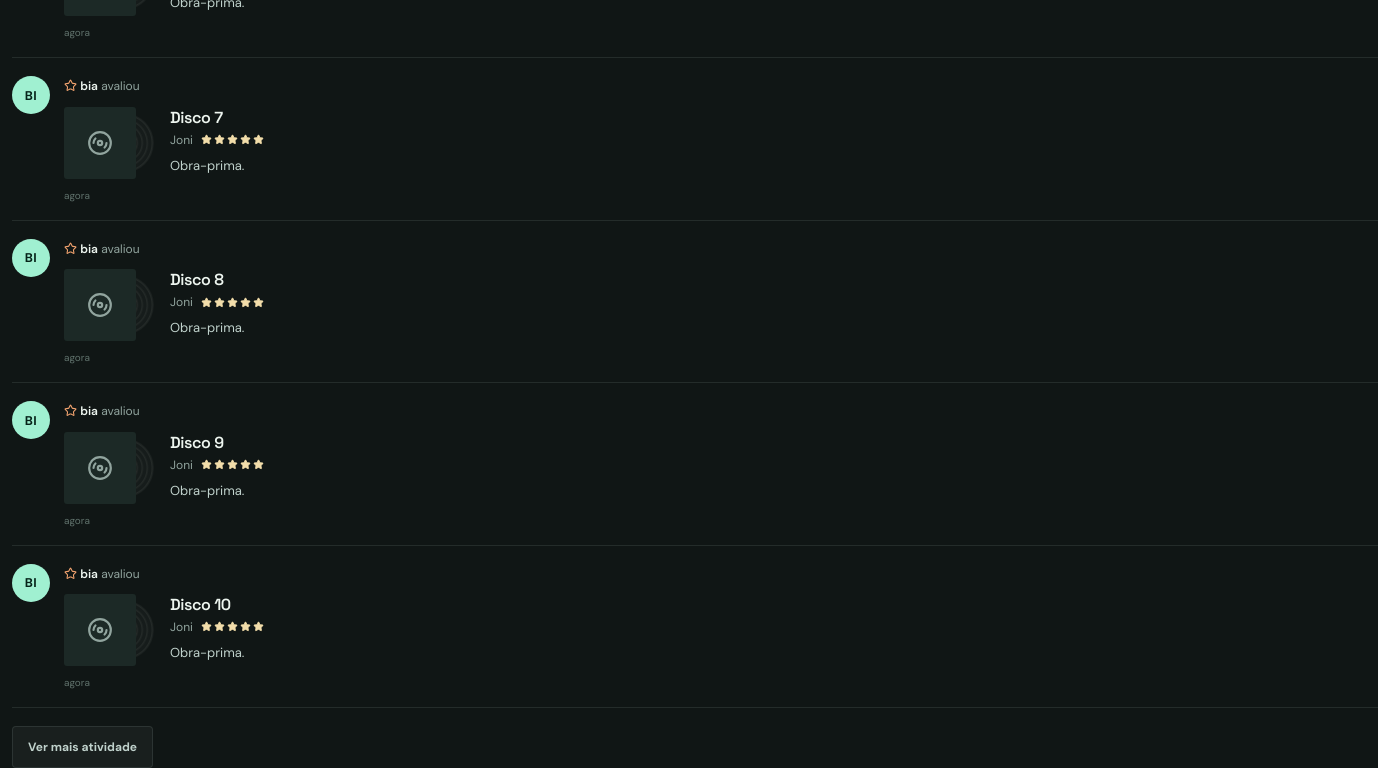
Scenario: HomeFeed › appends the next page without repeating entries
(page scrolled)
Click the button "Ver mais atividade" at {"x": 82, "y": 747}, box [12,726,153,767]
(page scrolled)
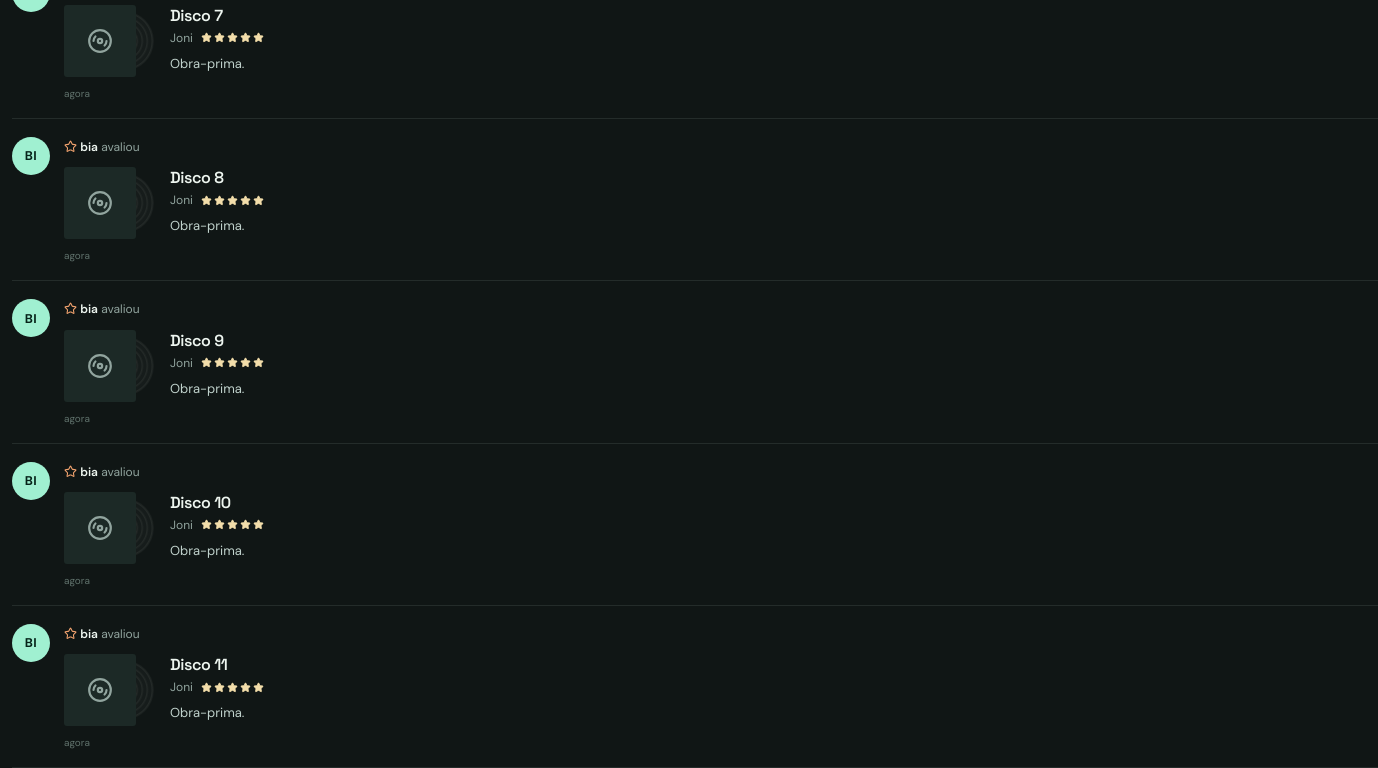
Expected: the link "Disco 11" is shown, [170,654,228,675]
Expected: the number of list items is 11
Expected: the button "Ver mais atividade" is gone
